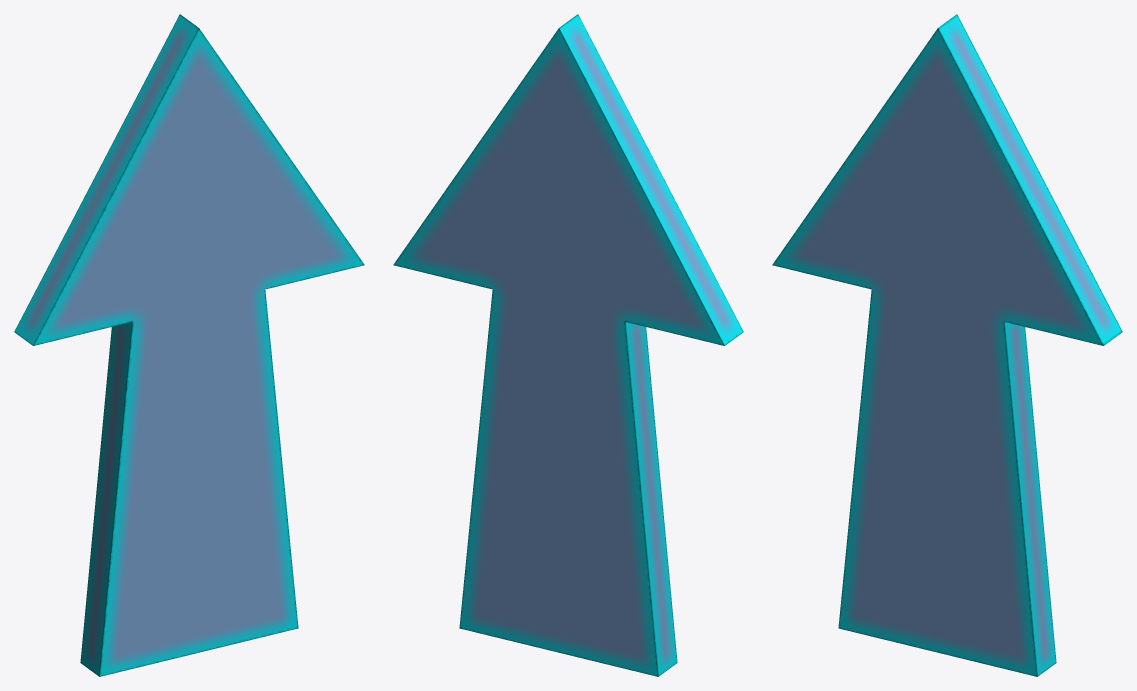
File: arrow.FBX
3 views of the same model, side by side, from view 1: azimuth 30°, elevation 25°; view 2: azimuth 150°, elevation 25°; view 3: azimuth 330°, elevation 25° (orthographic).
Parts seen in each view (by area): view 1: Obj_000001; view 2: Obj_000001; view 3: Obj_000001.
Part boxes in pixels (box(x1,y1,x2,y2)): Obj_000001: box(14, 14, 364, 676); Obj_000001: box(393, 14, 743, 676); Obj_000001: box(772, 14, 1122, 676).
Bounding box in the file's own units: 10 × 1 × 18.
1 material, 1 textured.
